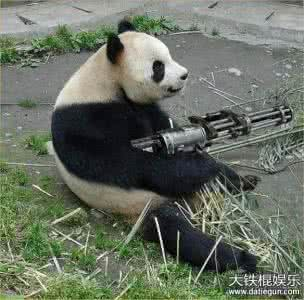panda: (47, 17, 263, 280)
